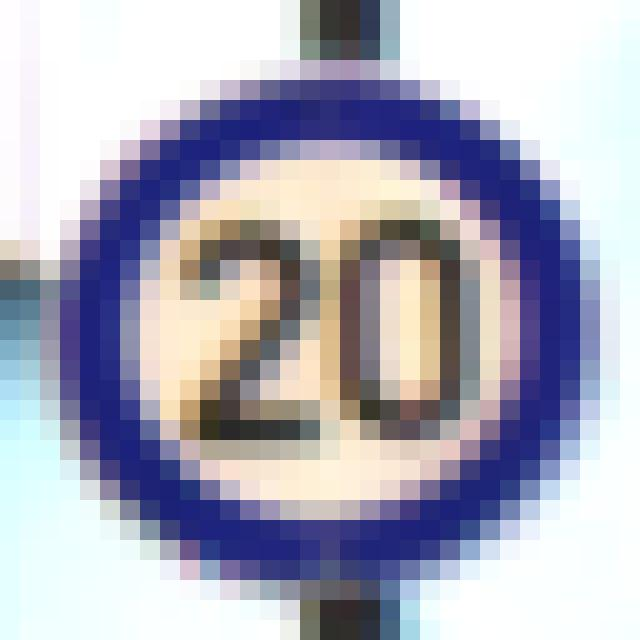SPEED LIMIT 20: (45, 83, 585, 552)
